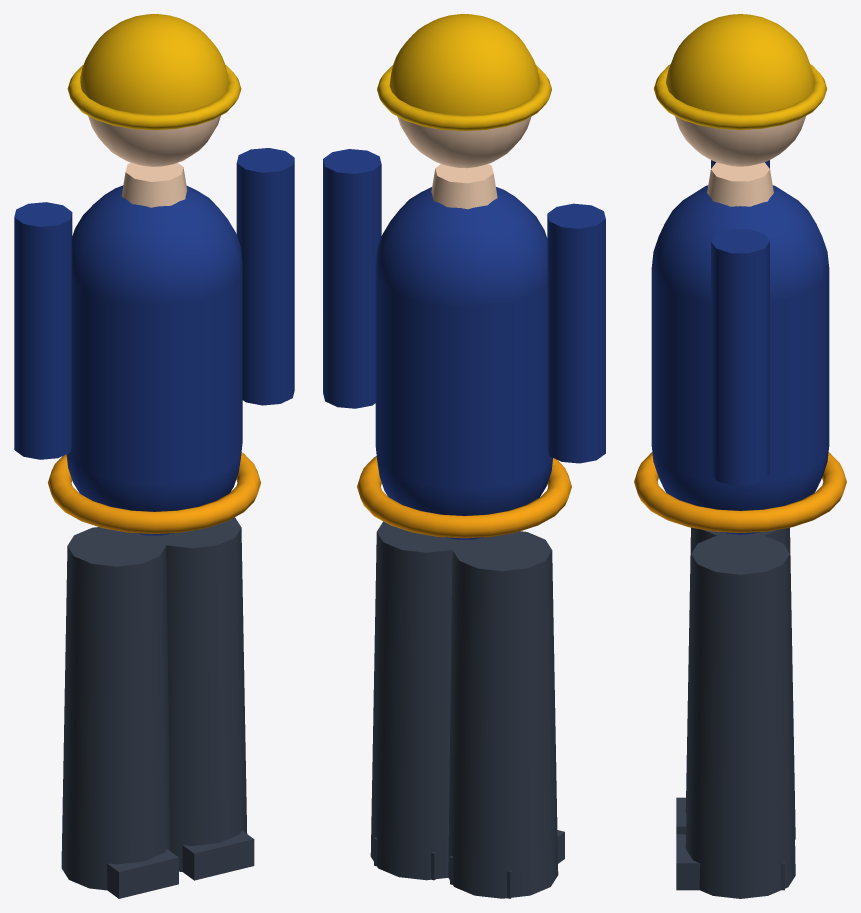
File: worker.glb
3 views of the same model, side by side, from view 1: azimuth 30°, elevation 25°; view 2: azimuth 150°, elevation 25°; view 3: azimuth 270°, elevation 25° (orthographic).
Size of the model in its own units: 1.59 by 4.68 by 1.08.
